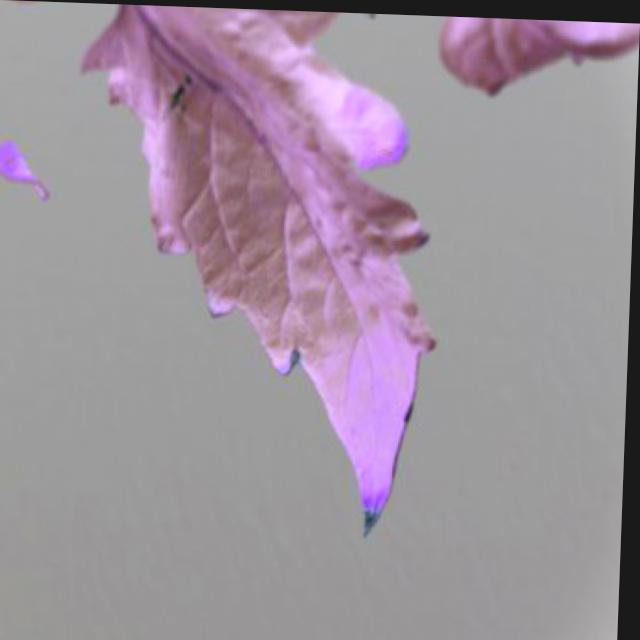Tomato bacterial spot leaf: (61, 4, 448, 548)
